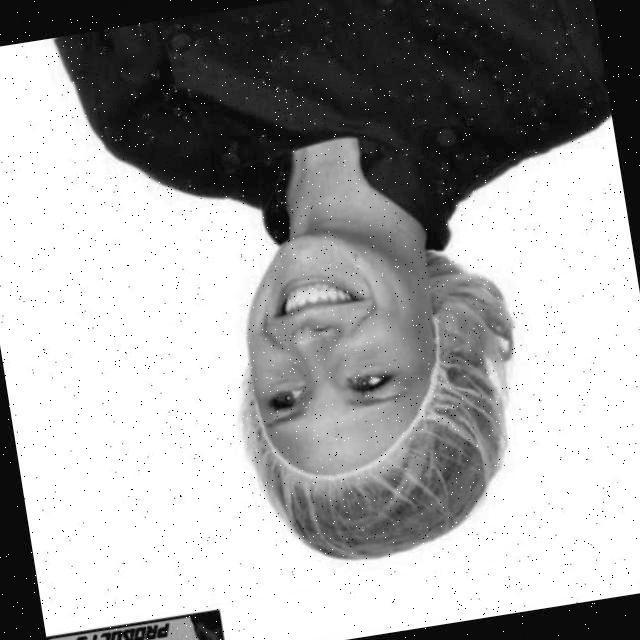no_hairnet: (270, 260, 386, 358)
